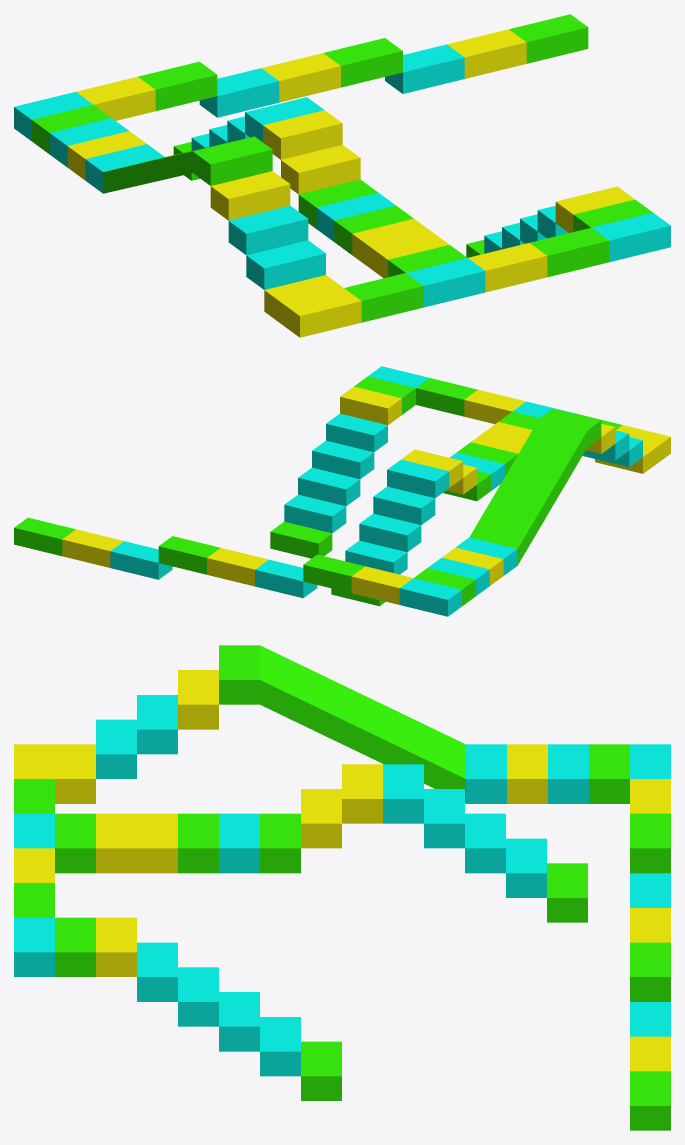
The model's file is maze.fbx.
3 views of the same model, one above another, from view 1: azimuth 30°, elevation 25°; view 2: azimuth 150°, elevation 25°; view 3: azimuth 270°, elevation 25° (orthographic). The views are drawn at different scales.
Visible parts, largest first — view 1: 物件_32, 物件_31, 物件_33, 物件_22, 物件_30, 物件_40, 物件_41, 物件_12, 物件_9, 物件_28, 物件_8, 物件_21 (+26 smaller); view 2: 物件_34, 物件_15, 物件_3, 物件_4, 物件_2, 物件_43, 物件_44, 物件_45, 物件_18, 物件_5, 物件_1, 物件_12 (+31 smaller); view 3: 物件_34, 物件_13, 物件_25, 物件_27, 物件_39, 物件_26, 物件_43, 物件_23, 物件_24, 物件_1, 物件_6, 物件_7 (+33 smaller).
Boxes of the visible parts, x1,y1,x2,y2 form: 物件_32: (210,171,290,220); 物件_31: (228,205,308,255); 物件_33: (193,136,272,185); 物件_22: (282,288,361,337); 物件_30: (246,240,325,289); 物件_40: (281,145,360,194); 物件_41: (263,110,342,159); 物件_12: (199,68,279,117); 物件_9: (385,44,464,93); 物件_28: (406,258,485,307); 物件_8: (447,29,526,78); 物件_21: (344,273,423,322); 物件_34: (469,419,587,564); 物件_15: (399,578,461,616); 物件_3: (298,467,360,506); 物件_4: (312,440,374,479); 物件_2: (284,494,346,533); 物件_43: (359,513,421,552); 物件_44: (373,486,435,525); 物件_45: (387,459,449,498); 物件_18: (340,386,401,425); 物件_5: (326,413,387,451); 物件_1: (270,521,332,558); 物件_12: (255,559,317,598); 物件_34: (260,645,465,803); 物件_13: (630,813,670,873); 物件_25: (178,813,218,873); 物件_27: (55,813,95,873); 物件_39: (260,813,300,873); 物件_26: (219,813,259,873); 物件_43: (465,813,505,873); 物件_23: (96,813,136,873); 物件_24: (137,813,177,873); 物件_1: (301,1041,341,1100); 物件_6: (547,863,587,922); 物件_7: (630,1071,670,1130).
Size of the model in its own units: 540 by 481 by 200.
